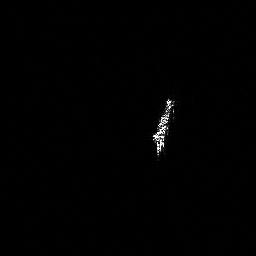ship: (148, 96, 176, 157)
